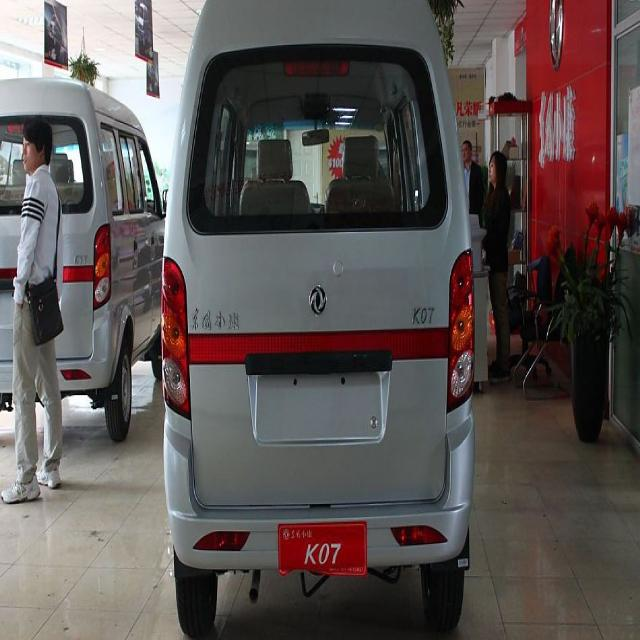back_glass: (186, 41, 451, 233)
back_left_side_light: (158, 246, 192, 425)
back_right_side_light: (446, 245, 476, 417)
rear_bumper: (162, 424, 474, 572)
